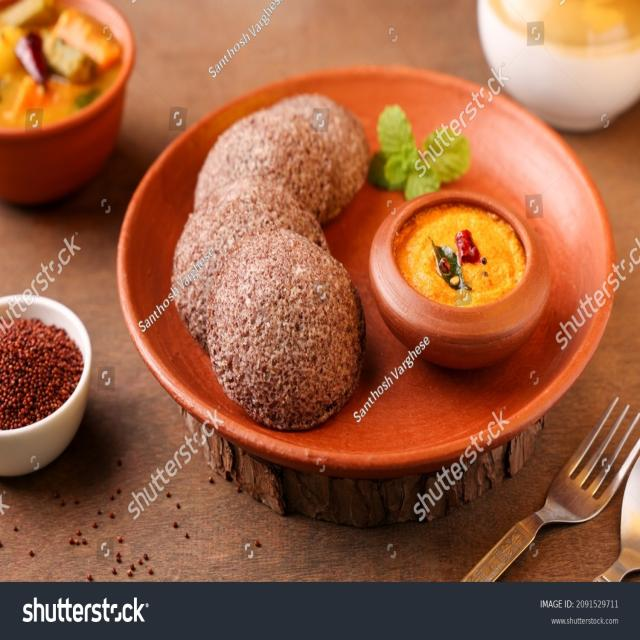IDLI: (205, 230, 367, 427), (168, 173, 331, 353), (193, 93, 375, 221)
